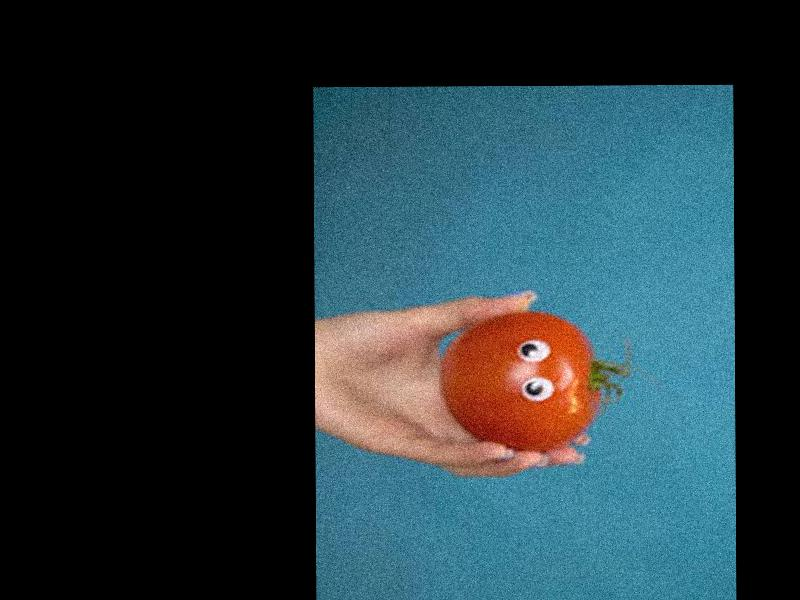Tomato: (439, 309, 602, 453)
